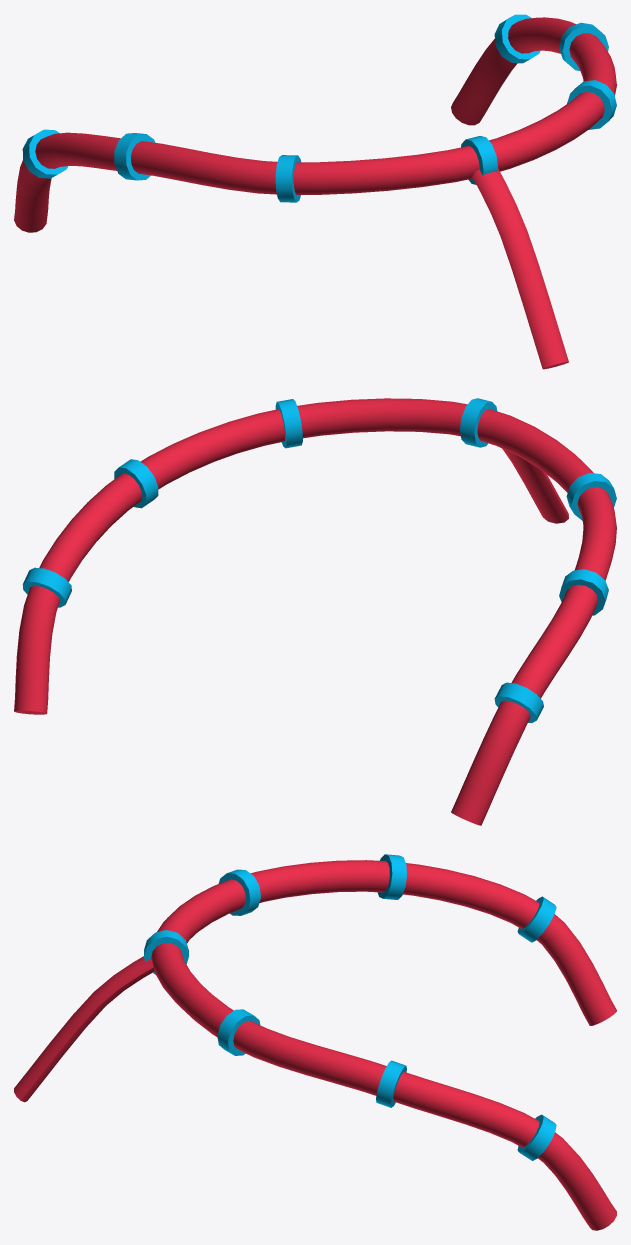
Rendered from ribbed.glb.
3 views of the same model, one above another, from view 1: azimuth 30°, elevation 25°; view 2: azimuth 150°, elevation 25°; view 3: azimuth 270°, elevation 25° (orthographic). The views are drawn at different scales.
Parts seen in each view (by area): view 1: Halo_ribbed; view 2: Halo_ribbed; view 3: Halo_ribbed.
Boxes of the visible parts, x1,y1,x2,y2 form: Halo_ribbed: (14, 14, 616, 369); Halo_ribbed: (14, 398, 616, 825); Halo_ribbed: (14, 854, 616, 1230).
Size of the model in its own units: 0.8486 by 0.321 by 0.9109.
